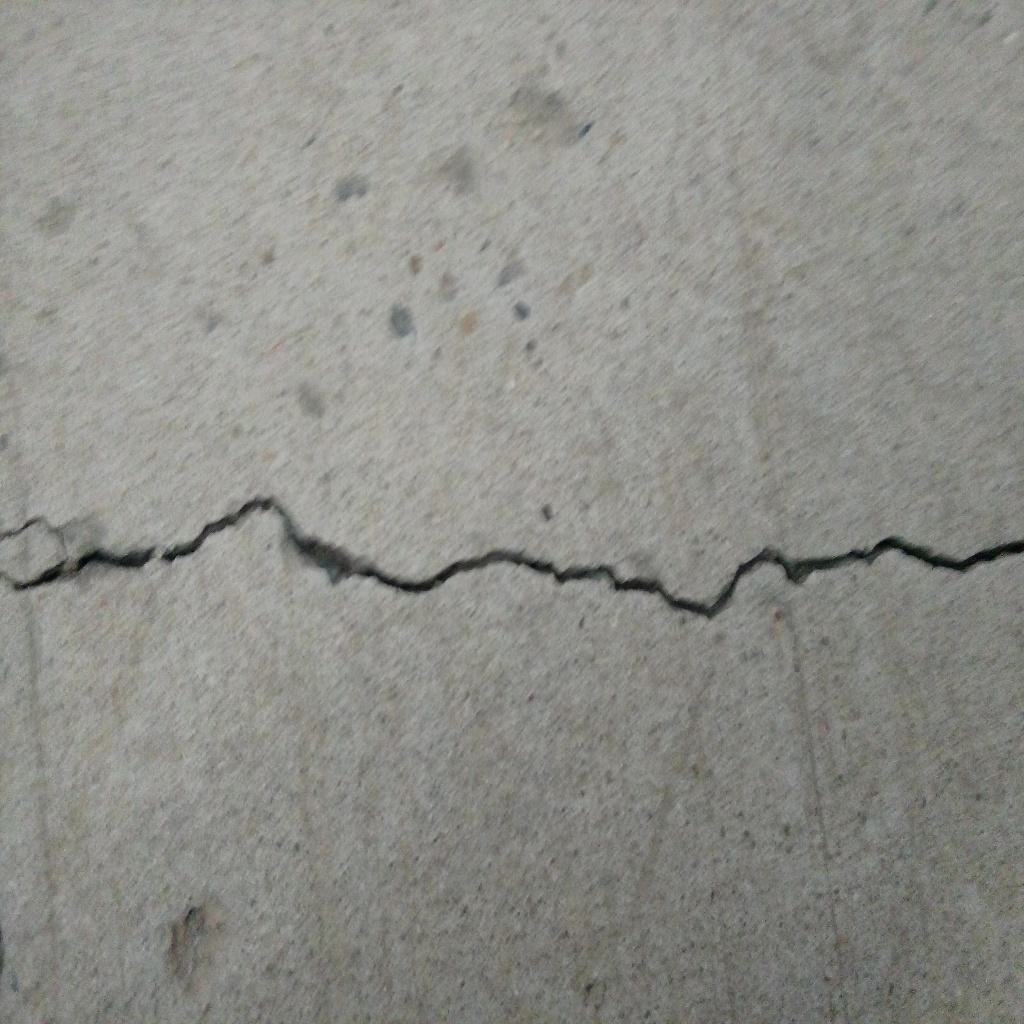Crack: (1, 495, 1024, 622)
